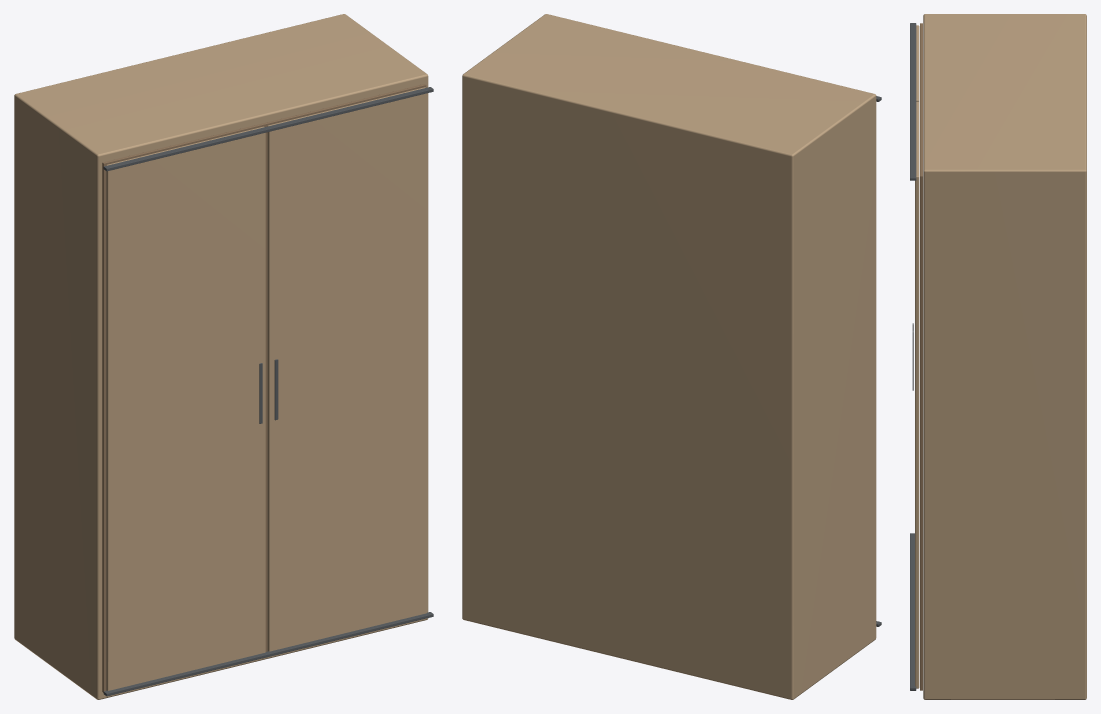
The model's file is sliding-wardrobe.glb.
3 views of the same model, side by side, from view 1: azimuth 30°, elevation 25°; view 2: azimuth 150°, elevation 25°; view 3: azimuth 270°, elevation 25° (orthographic). The views are drawn at different scales.
Visible parts, largest first — view 1: Wardrobe body; view 2: Wardrobe body; view 3: Wardrobe body.
Part boxes in pixels (x1,y1,x2,y2): Wardrobe body: [14, 14, 433, 699]; Wardrobe body: [462, 14, 881, 699]; Wardrobe body: [910, 14, 1086, 699].
Bounding box in the file's own units: 1.5 × 2.36 × 0.7135.
